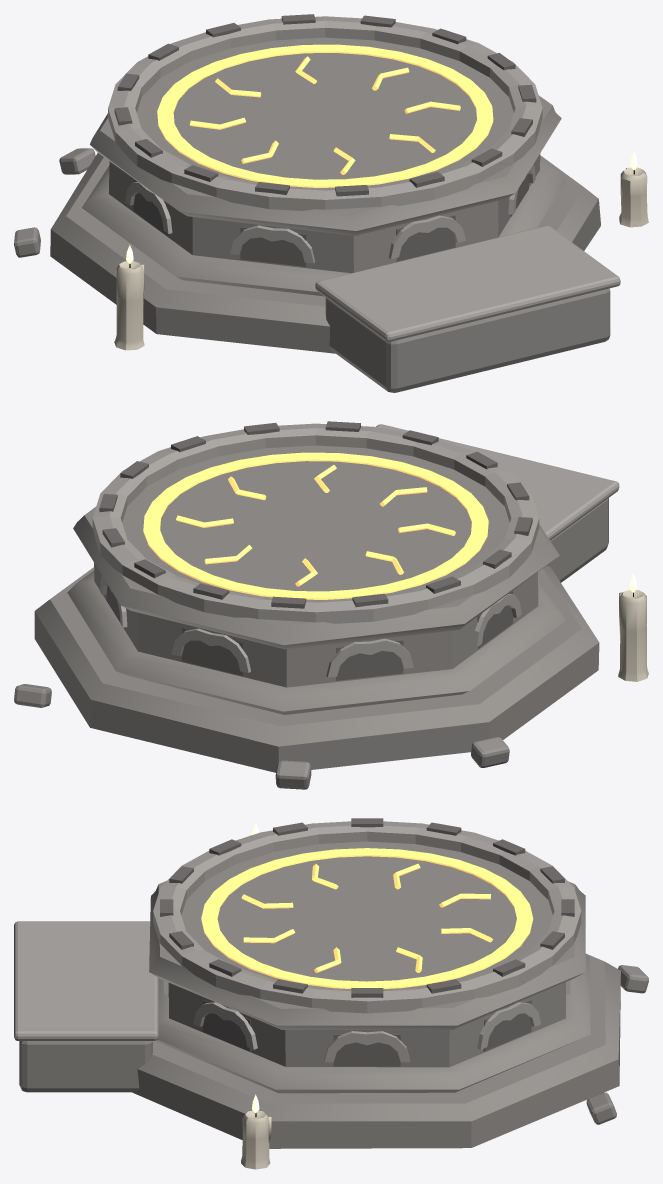
The model's file is plinth.glb.
3 views of the same model, one above another, from view 1: azimuth 30°, elevation 25°; view 2: azimuth 150°, elevation 25°; view 3: azimuth 270°, elevation 25° (orthographic). The views are drawn at different scales.
Parts seen in each view (by area): view 1: plinth, rune; view 2: plinth, rune; view 3: plinth, rune.
Part boxes in pixels (x1,y1,x2,y2): plinth: [14, 14, 648, 392]; rune: [157, 44, 493, 187]; plinth: [14, 421, 648, 789]; rune: [143, 452, 488, 599]; plinth: [14, 818, 648, 1169]; rune: [201, 848, 533, 988].
Size of the model in its own units: 2.26 by 0.5677 by 2.37.
